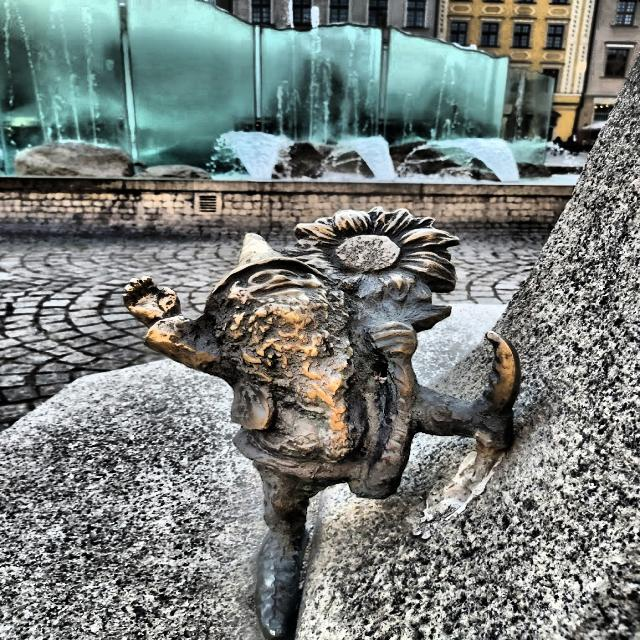Zyczliwek: (127, 208, 520, 640)
